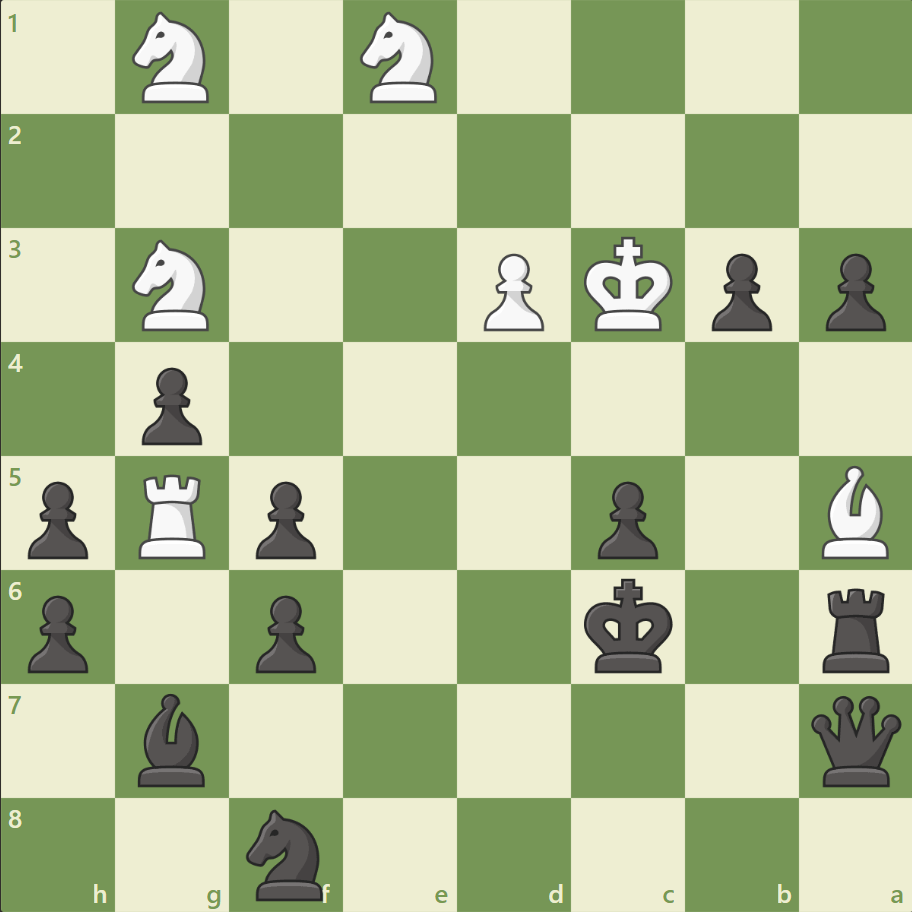B: (812, 460, 896, 563)
K: (579, 231, 679, 339)
N: (124, 234, 222, 337), (351, 7, 449, 110), (124, 7, 222, 110)
P: (474, 246, 549, 337)
R: (133, 466, 215, 563)
b: (131, 687, 215, 790)
k: (579, 571, 679, 679)
n: (238, 802, 335, 904)
p: (247, 586, 322, 677), (20, 586, 95, 677), (247, 473, 322, 564), (20, 473, 95, 564), (133, 359, 208, 450), (701, 246, 776, 337), (588, 473, 662, 564), (815, 246, 889, 337)
q: (805, 690, 904, 789)
r: (814, 579, 897, 676)
